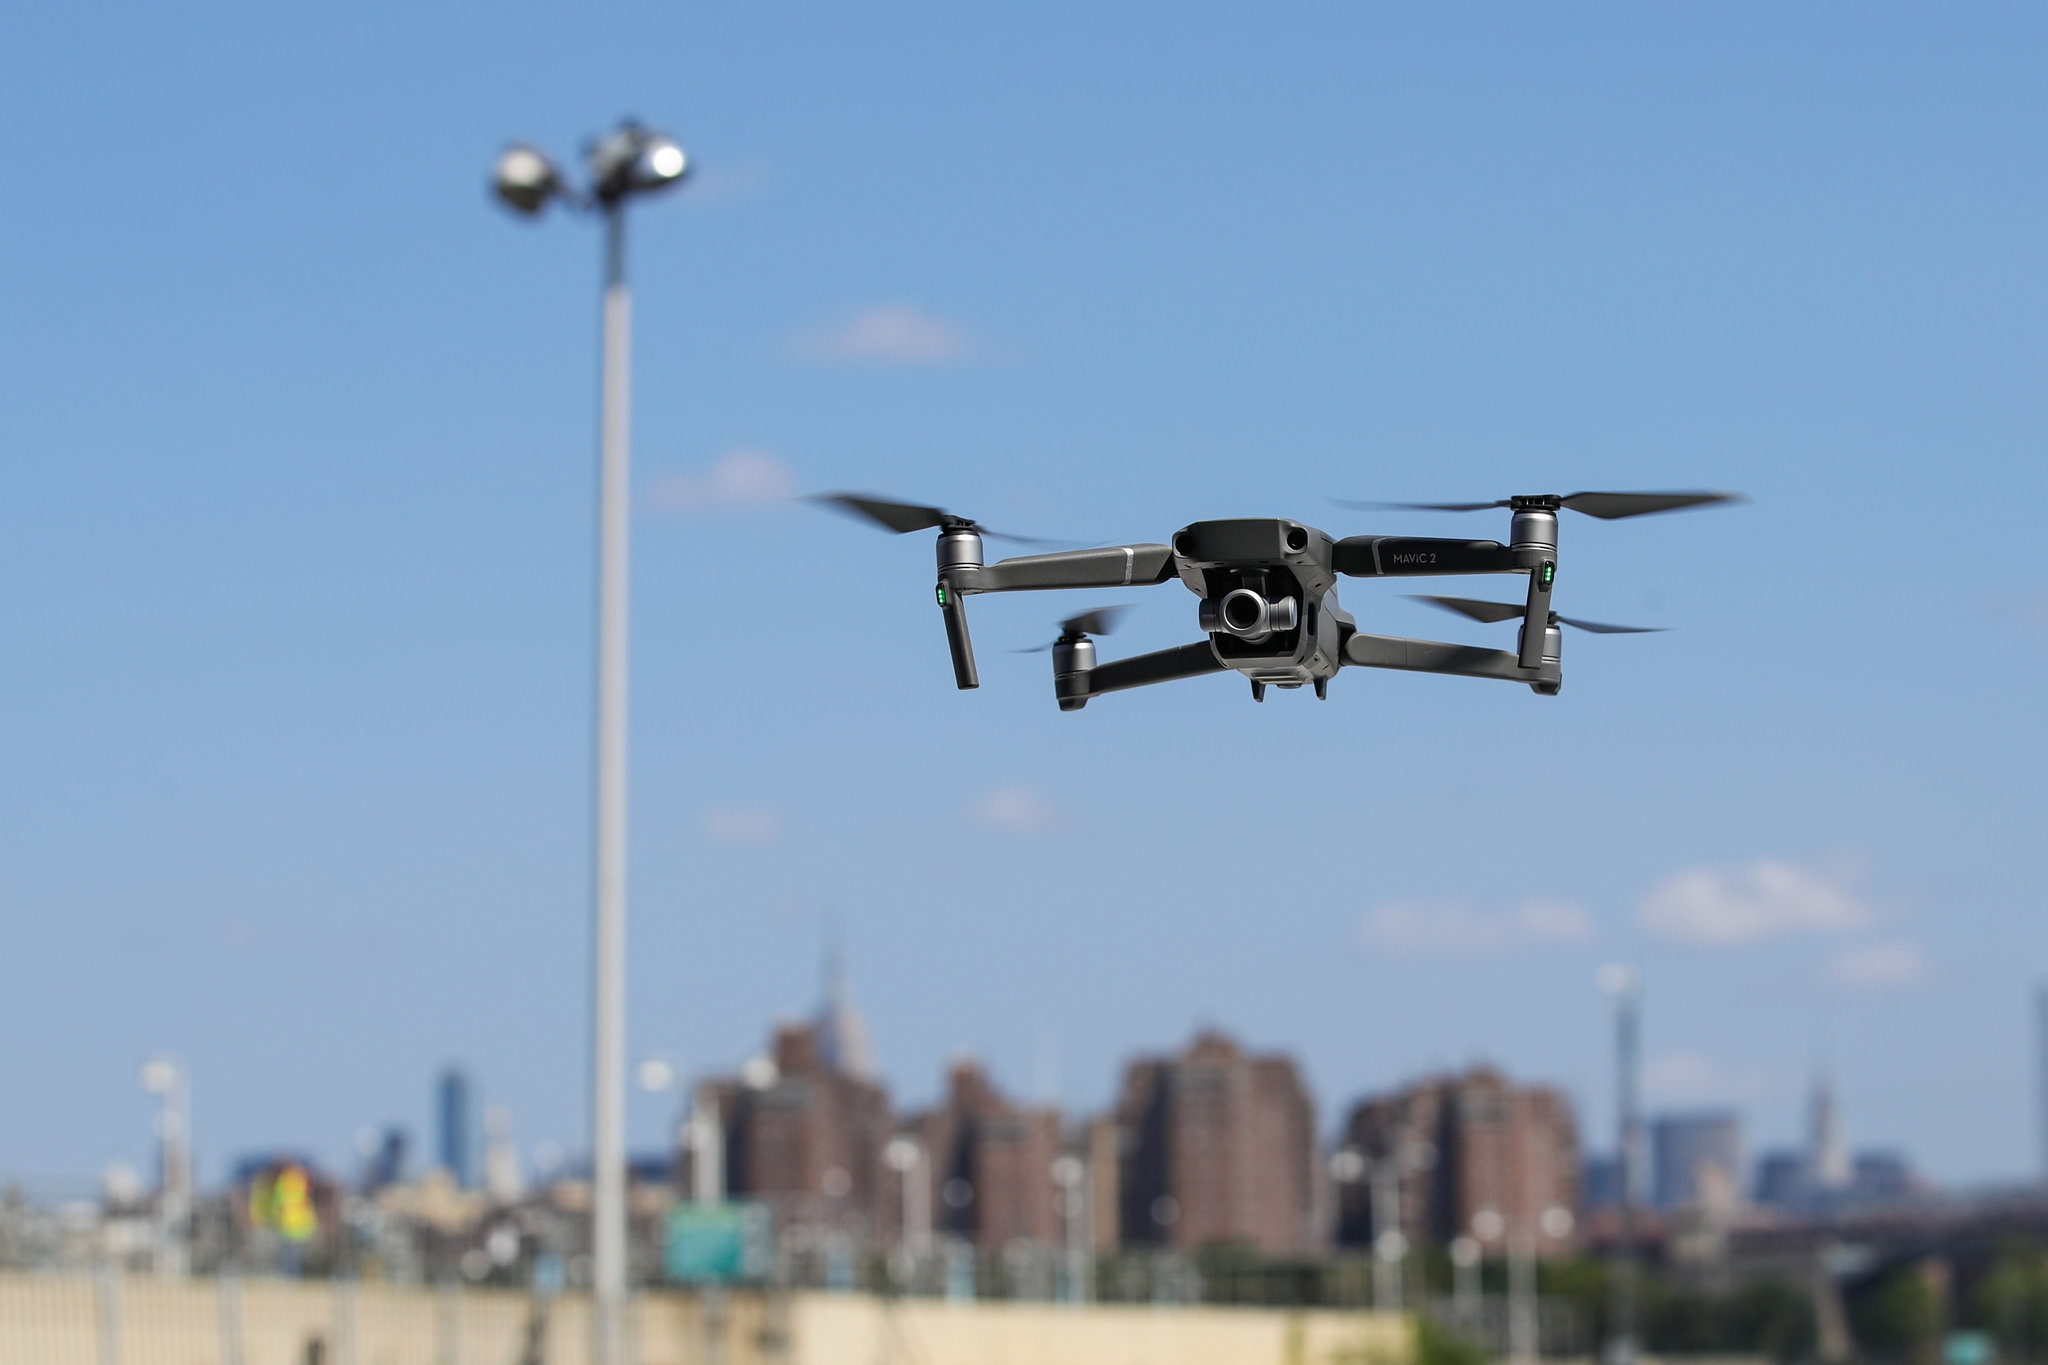drone: (805, 469, 1754, 714)
